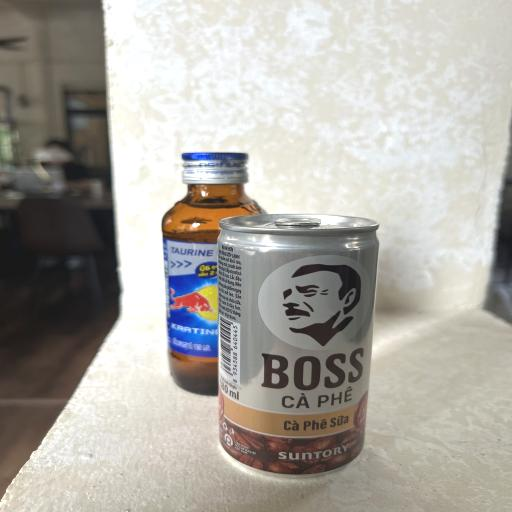bo_huc: (161, 149, 272, 400)
boss_coffee: (213, 212, 369, 476)
